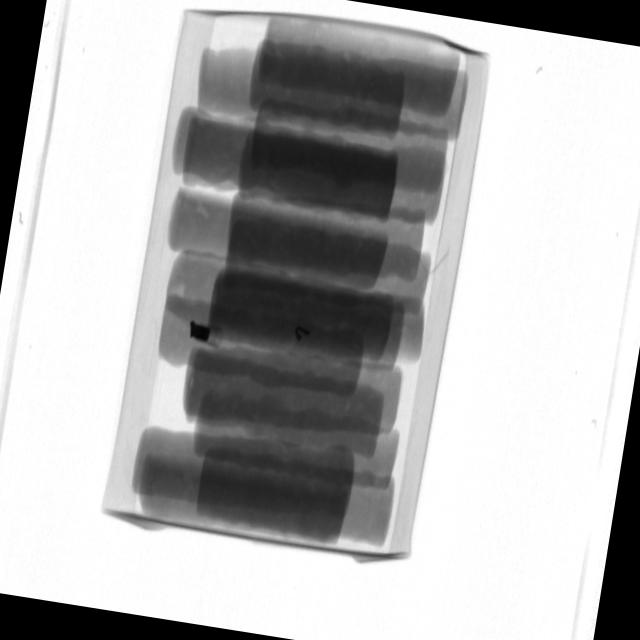ym: (190, 323, 215, 344), (294, 326, 314, 344)
